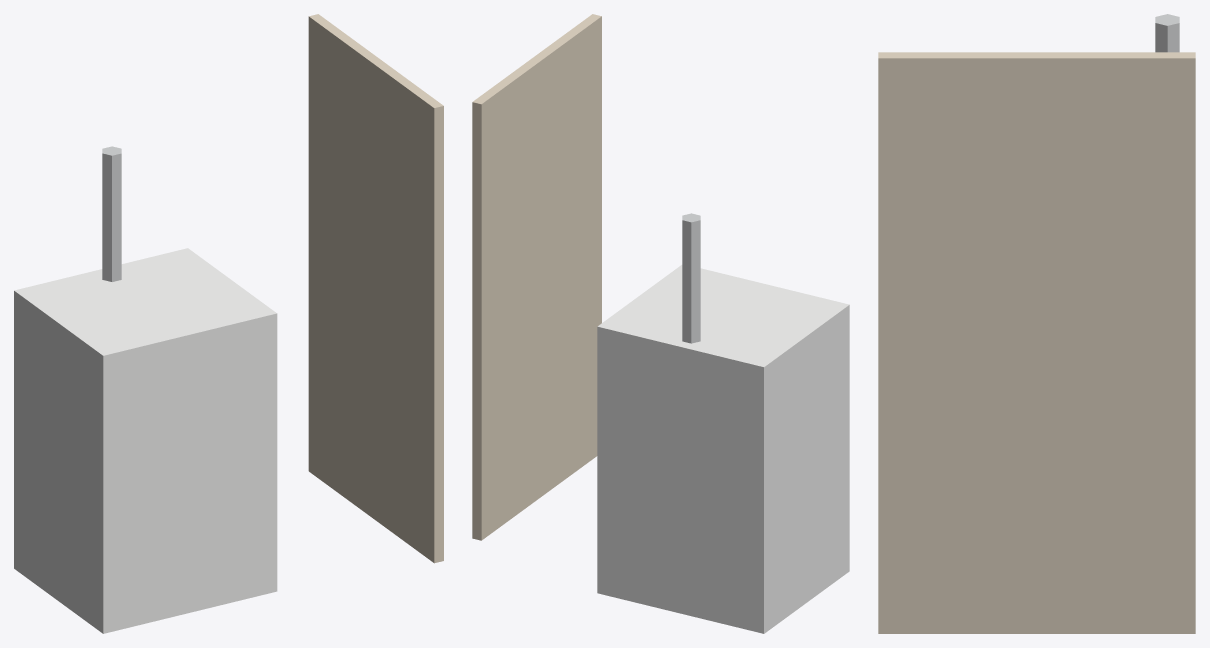
File: Urinal.fbx
3 renders of one model, left to right at view 1: azimuth 30°, elevation 25°; view 2: azimuth 150°, elevation 25°; view 3: azimuth 270°, elevation 25°, orthographic. The views are drawn at different scales.
Visible parts, largest first — view 1: Urinal; view 2: Urinal; view 3: Urinal.
Boxes of the visible parts, x1,y1,x2,y2 form: Urinal: (14, 14, 443, 633); Urinal: (472, 14, 849, 633); Urinal: (878, 14, 1195, 633).
Bounding box in the file's own units: 0.63 × 0.95 × 0.45.
